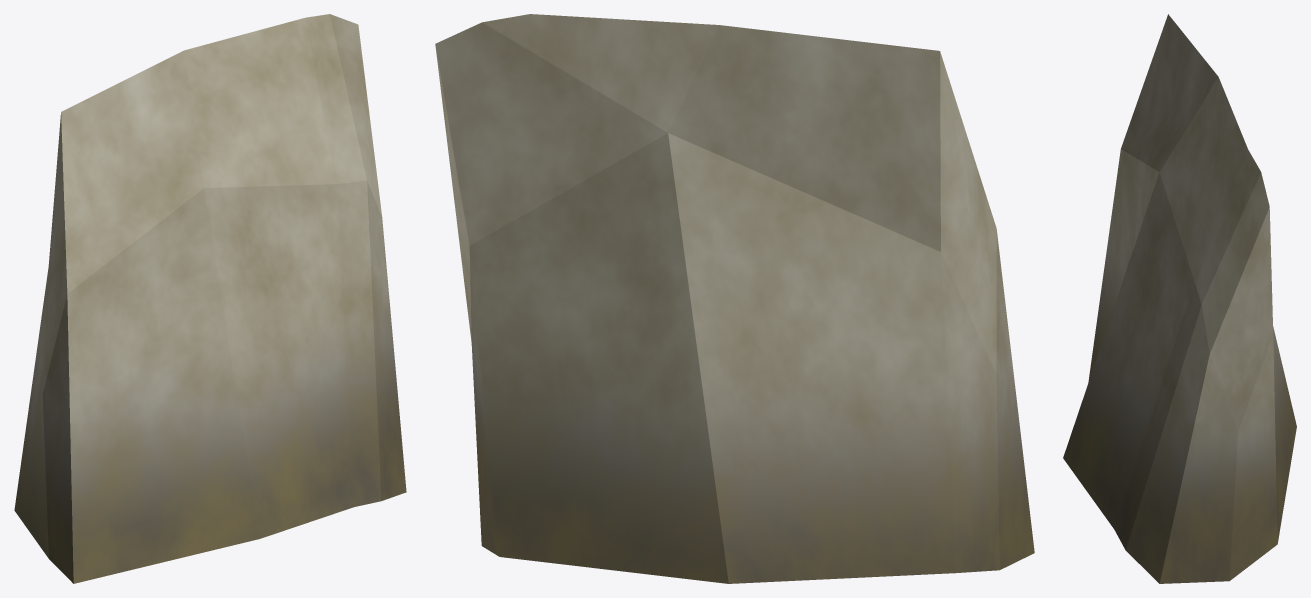
File: rock_04.glb
The picture shows the model from 3 angles, left to right: view 1: azimuth 30°, elevation 25°; view 2: azimuth 150°, elevation 25°; view 3: azimuth 270°, elevation 25°; orthographic projection. The views are drawn at different scales.
Parts seen in each view (by area): view 1: Roundcube.003; view 2: Roundcube.003; view 3: Roundcube.003.
Boxes of the visible parts, x1,y1,x2,y2 form: Roundcube.003: (14, 14, 406, 583); Roundcube.003: (435, 14, 1034, 583); Roundcube.003: (1063, 14, 1296, 583).
Size of the model in its own units: 2.01 by 2.31 by 1.16.
1 material, 1 textured.
